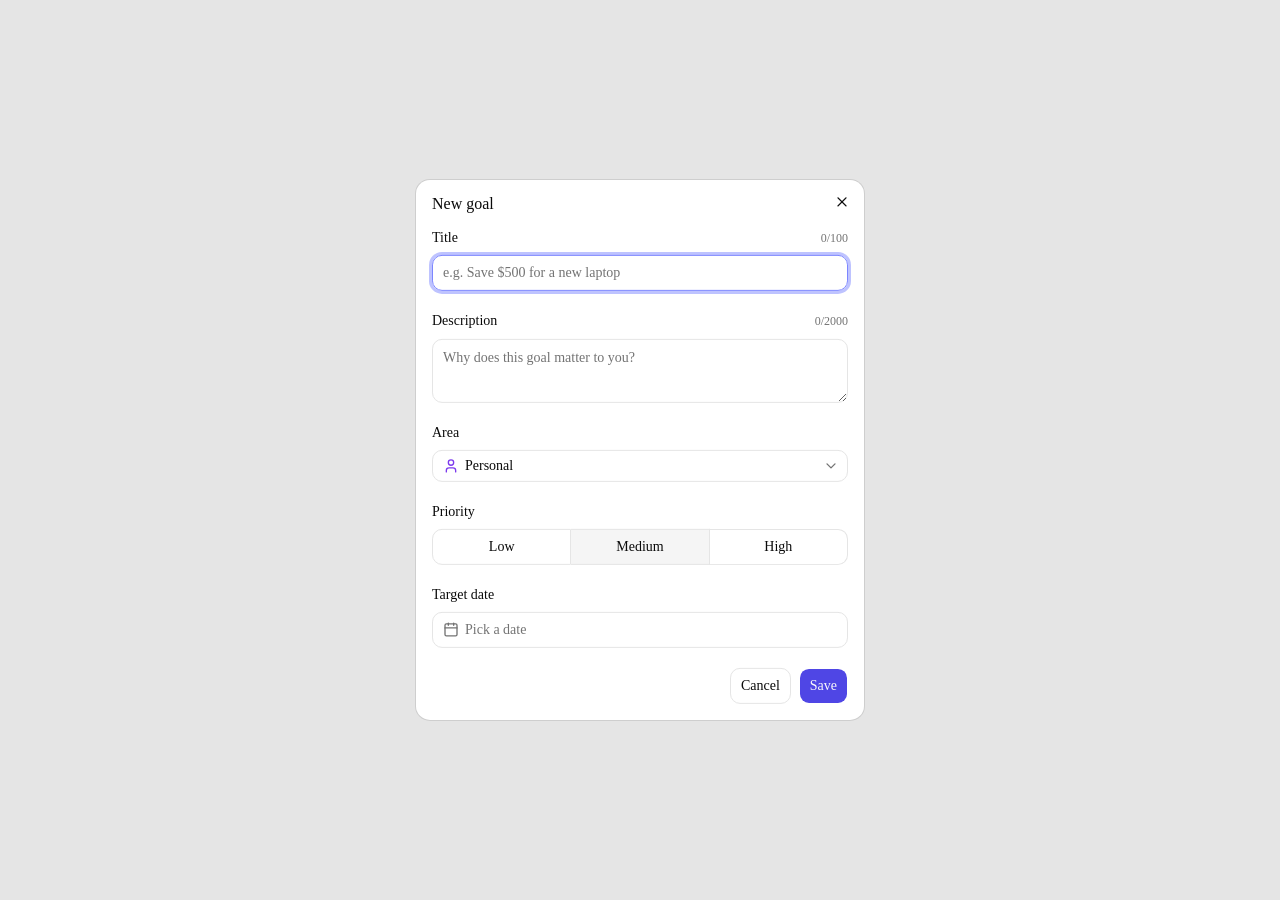
Test: GoalFormDialog › shows API field errors under the inputs
Type "Something" into the field labelled "Title" at x=640, y=273, box [432,255,848,291]
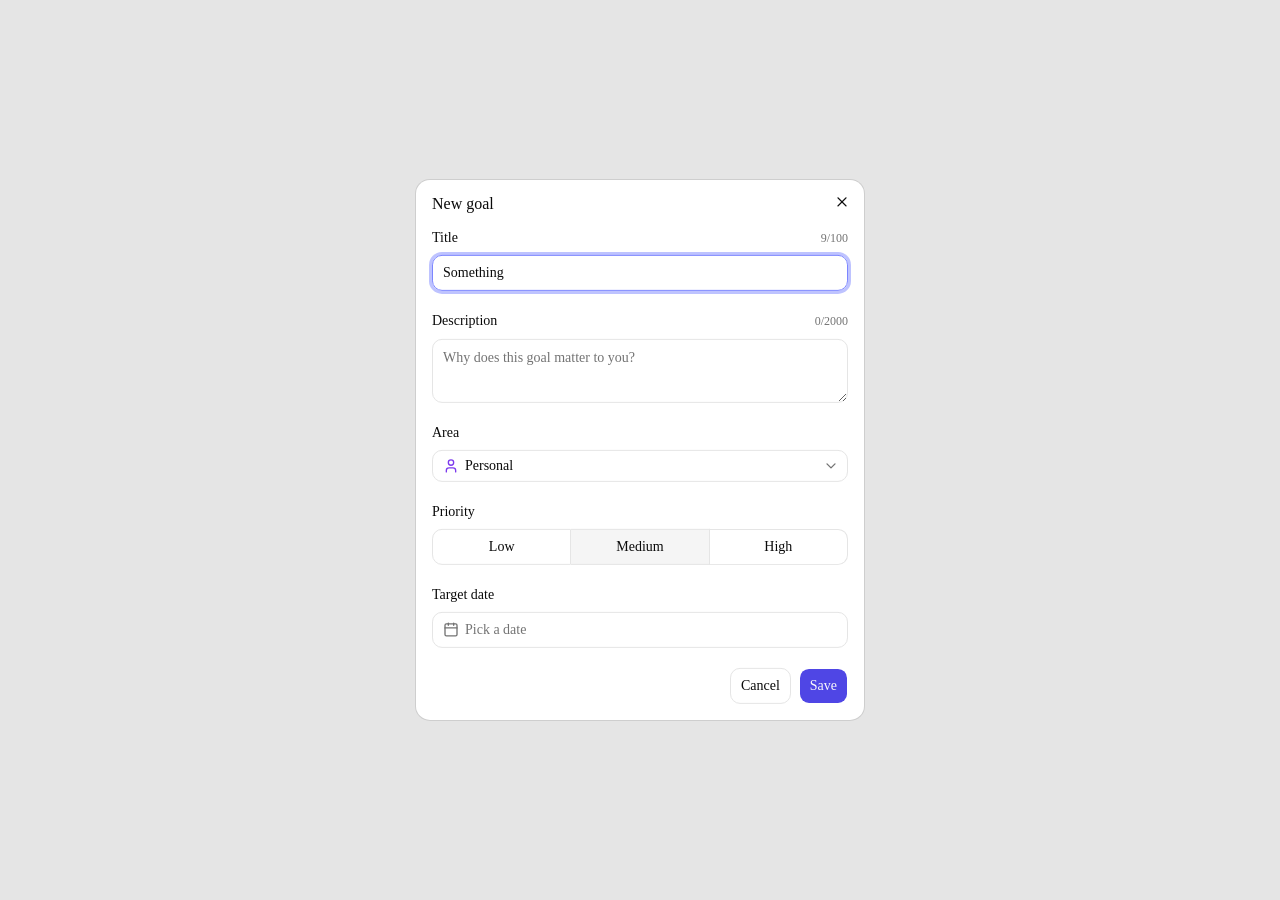
Click the button "Save" at x=823, y=686, box [799,668,848,704]
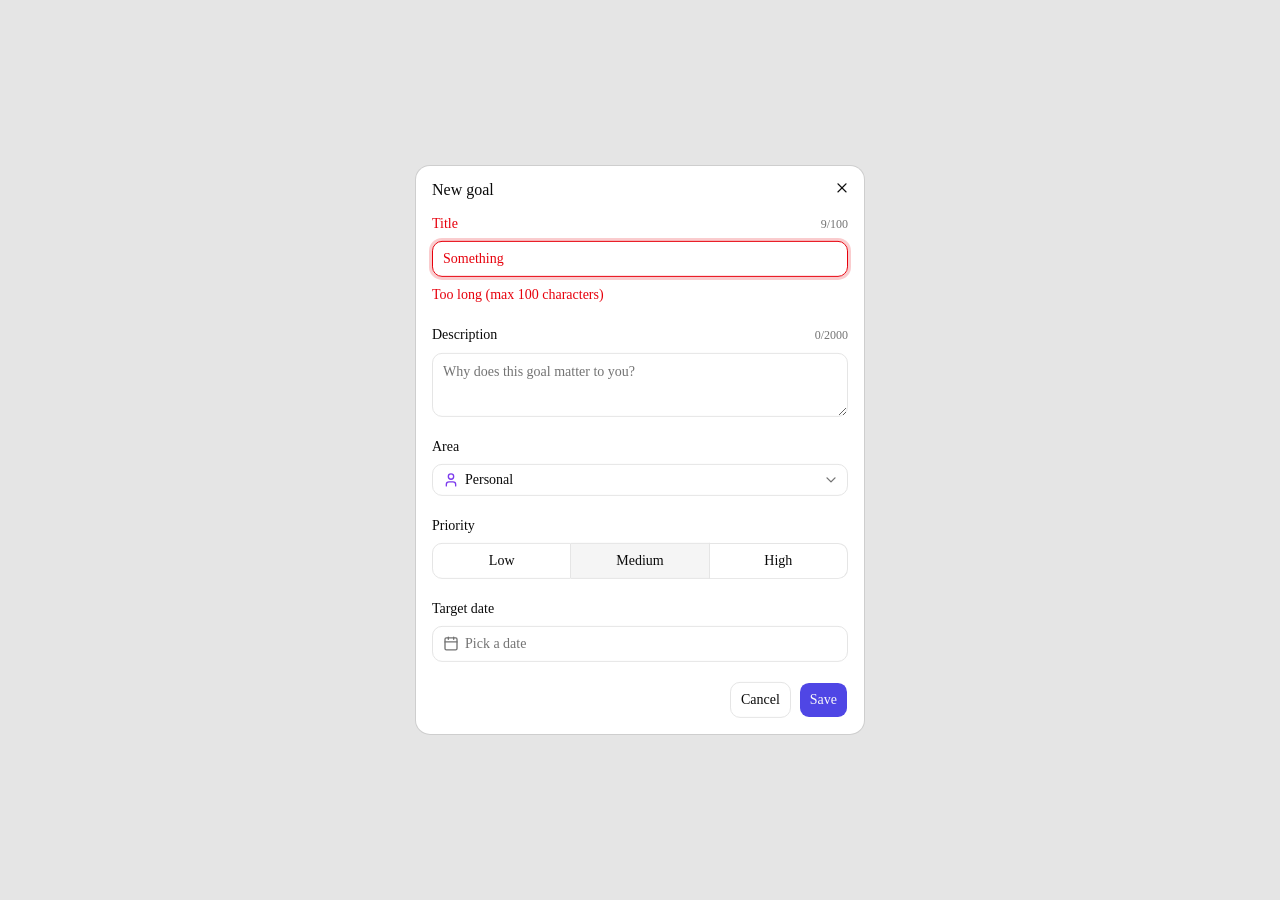
Now the text "Too long (max 100 characters)" is shown, box [432,287,604,302]
